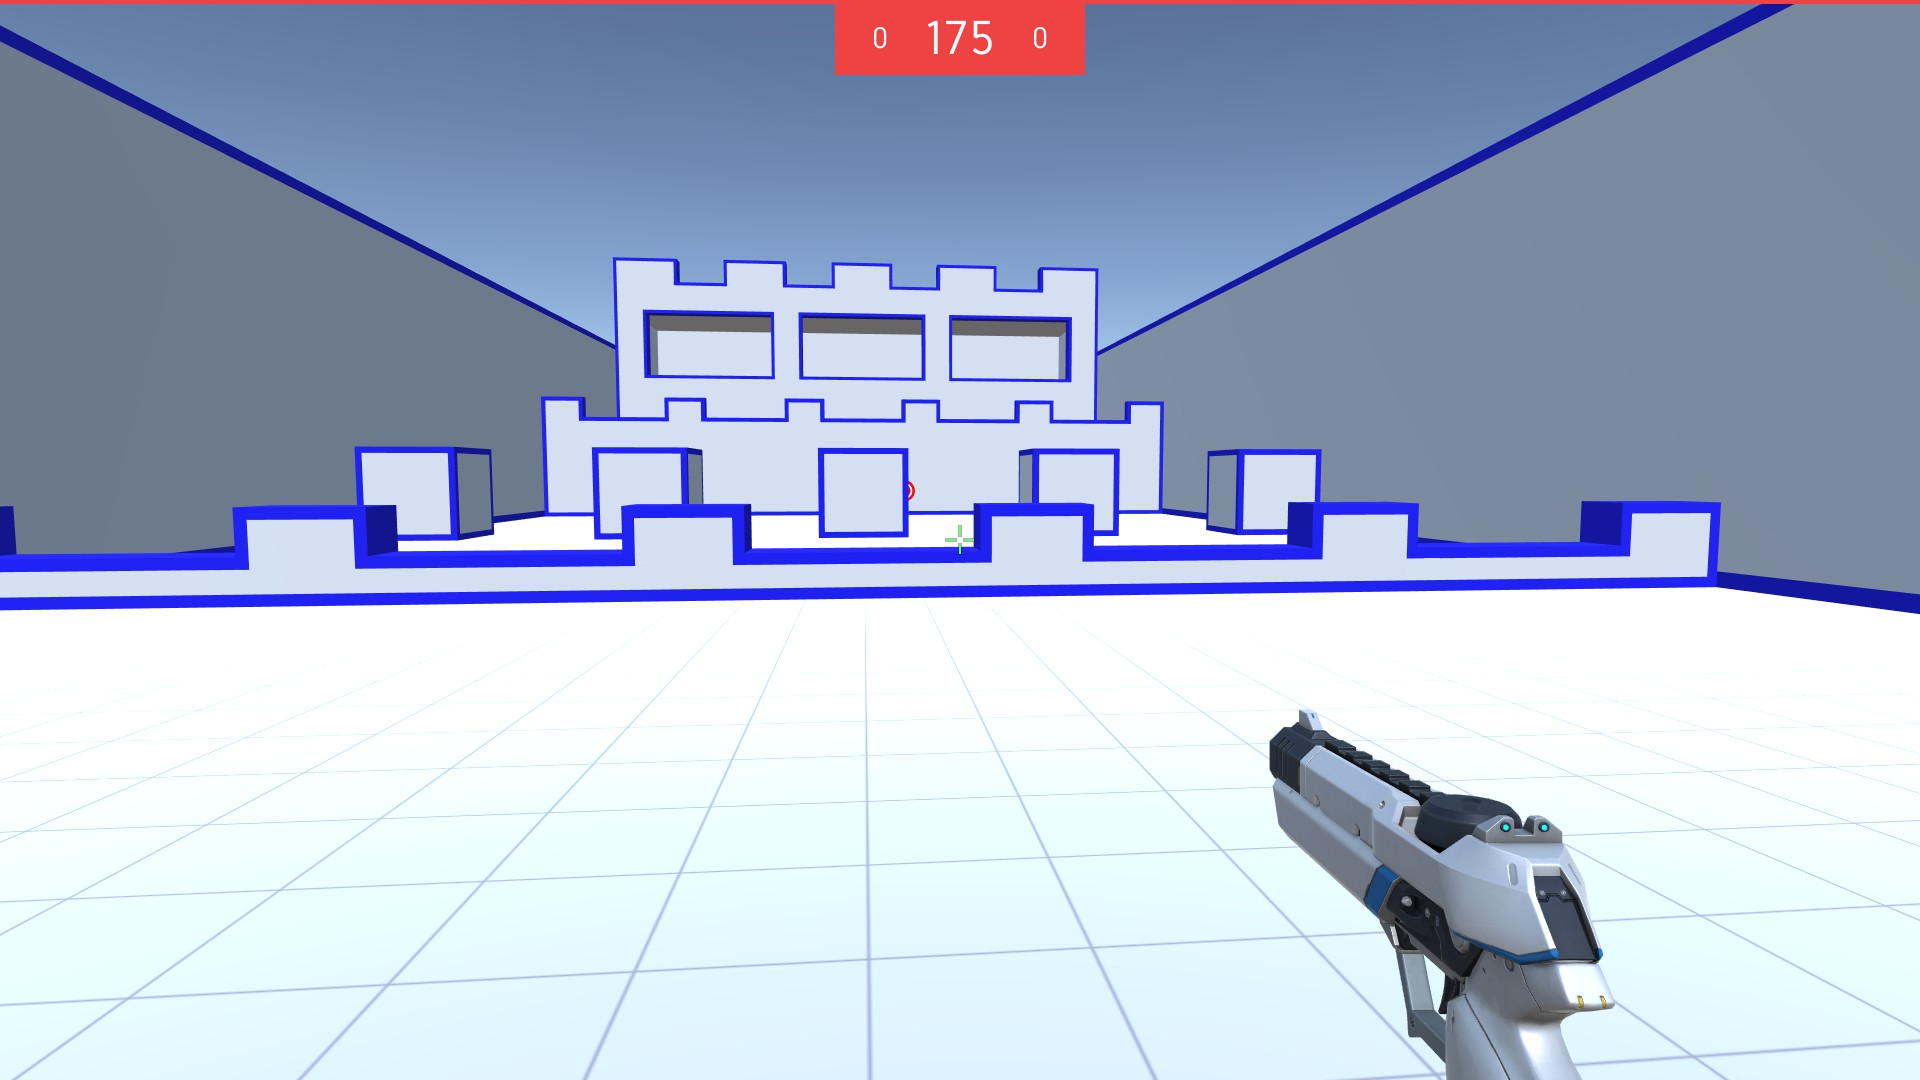target: (907, 480, 916, 502)
